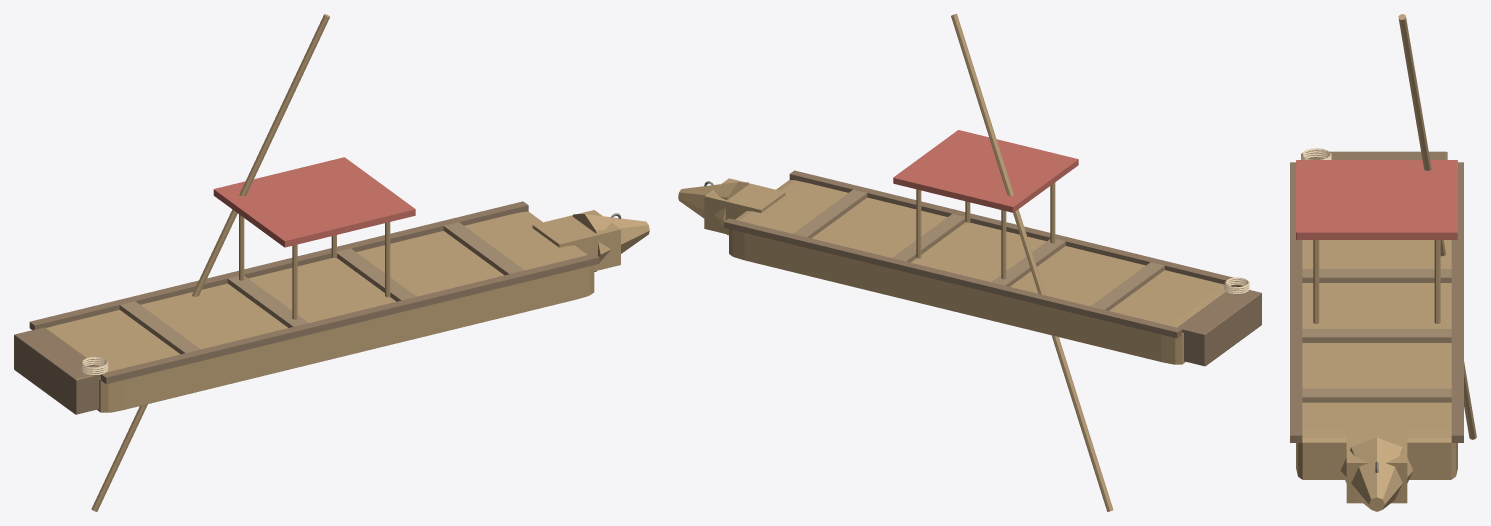
Rendered from ferry_boat.glb.
3 renders of one model, left to right at view 1: azimuth 30°, elevation 25°; view 2: azimuth 150°, elevation 25°; view 3: azimuth 270°, elevation 25°, orthographic. The views are drawn at different scales.
Parts seen in each view (by area): view 1: ferry_boat; view 2: ferry_boat; view 3: ferry_boat.
Part boxes in pixels (x1,y1,x2,y2): ferry_boat: (14, 14, 649, 511); ferry_boat: (678, 14, 1261, 511); ferry_boat: (1290, 14, 1476, 511).
Size of the model in its own units: 3.9 by 2.92 by 0.9243.
